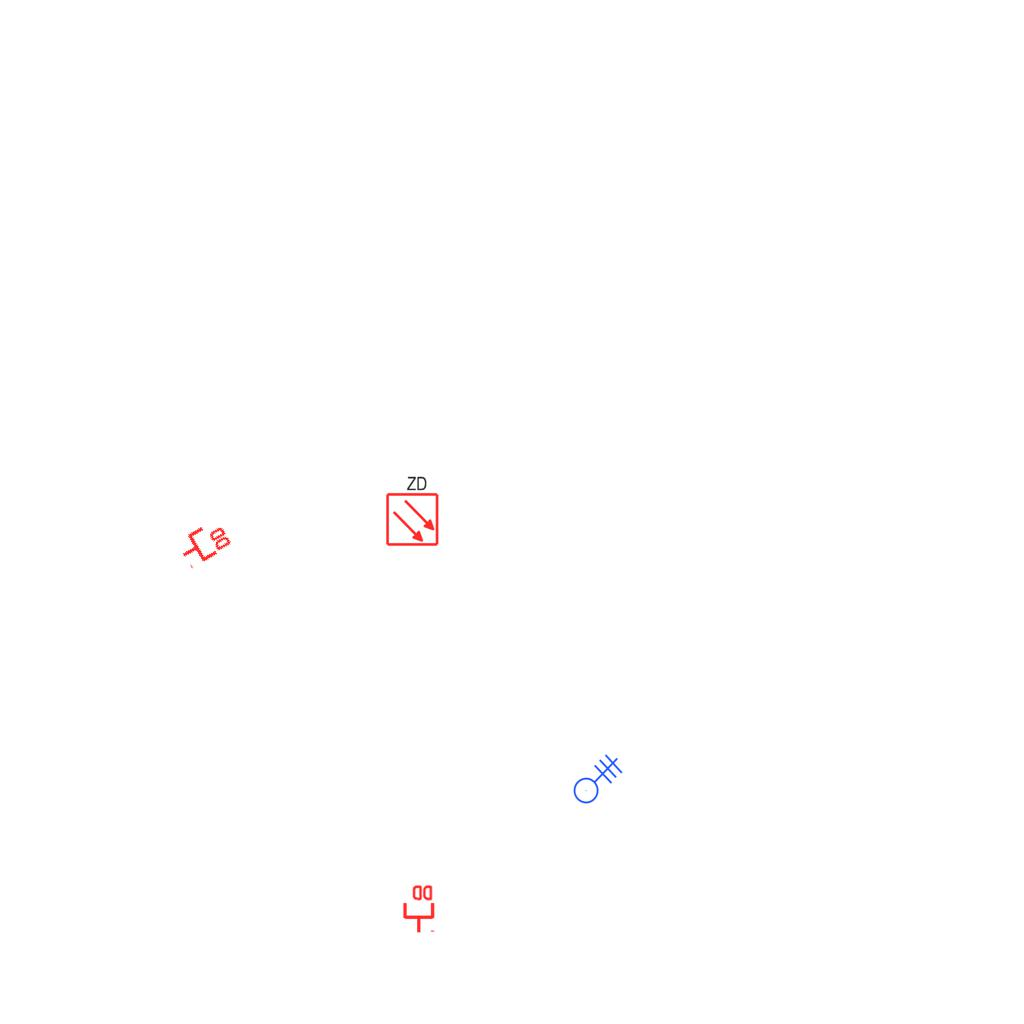Datenanschluss_zweifach: (173, 515, 235, 570), (401, 883, 435, 934)
Elektroanschluss_allgemein_400V_Geraeteanschlussdose_400V: (565, 748, 623, 804)
ZD_Melder_in_Zwischendecke_mit_Revisionsoeffnung_mind_40_x_40_cm: (383, 473, 440, 547)
